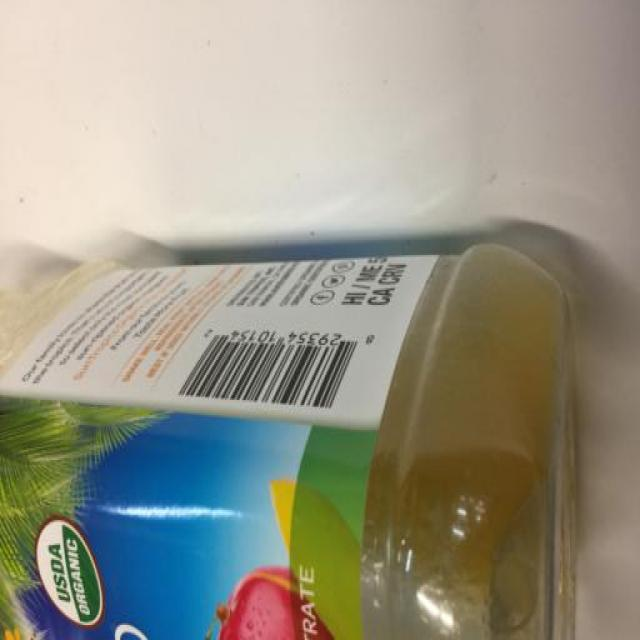plastic_bottle: (2, 222, 626, 640)
